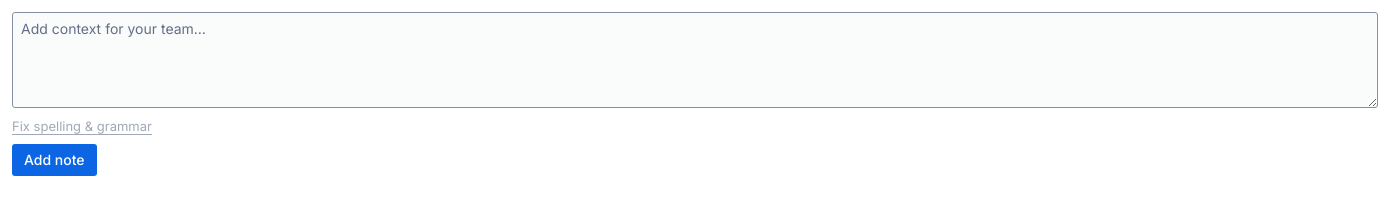
Scenario: NoteForm › submits the trimmed note and clears the field on success
Type "  Called the customer.  " into the text box named "New note".
click(695, 60); type("  Called the customer.  ")  # box [12, 12, 1378, 108]
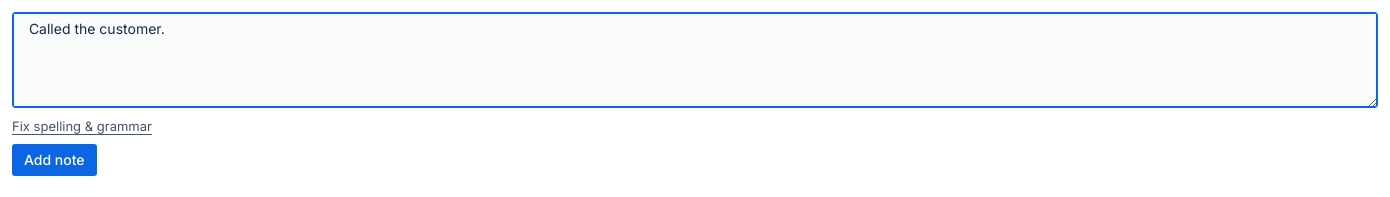
Click the button "Add note".
click(54, 160)  # box [12, 144, 97, 176]
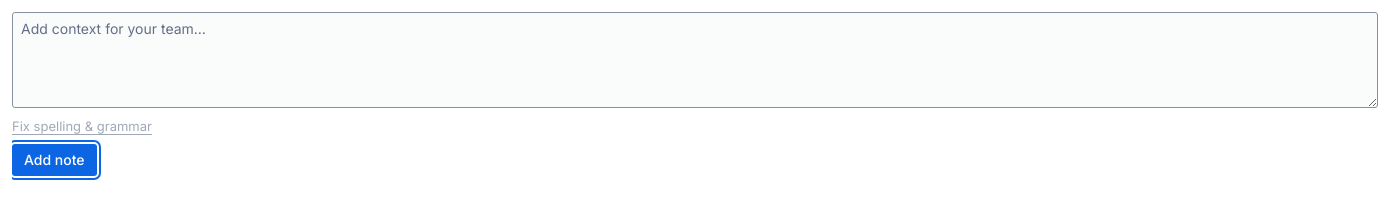
Result: the text box named "New note" is empty at [12, 12, 1378, 108]
